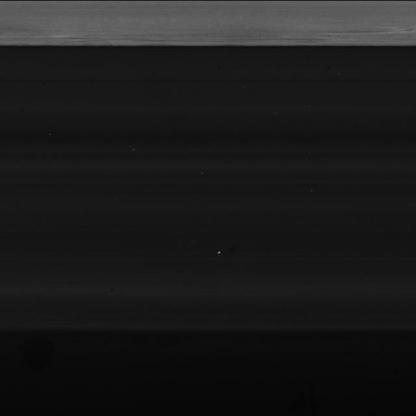silk_spot: (23, 14, 416, 42)
